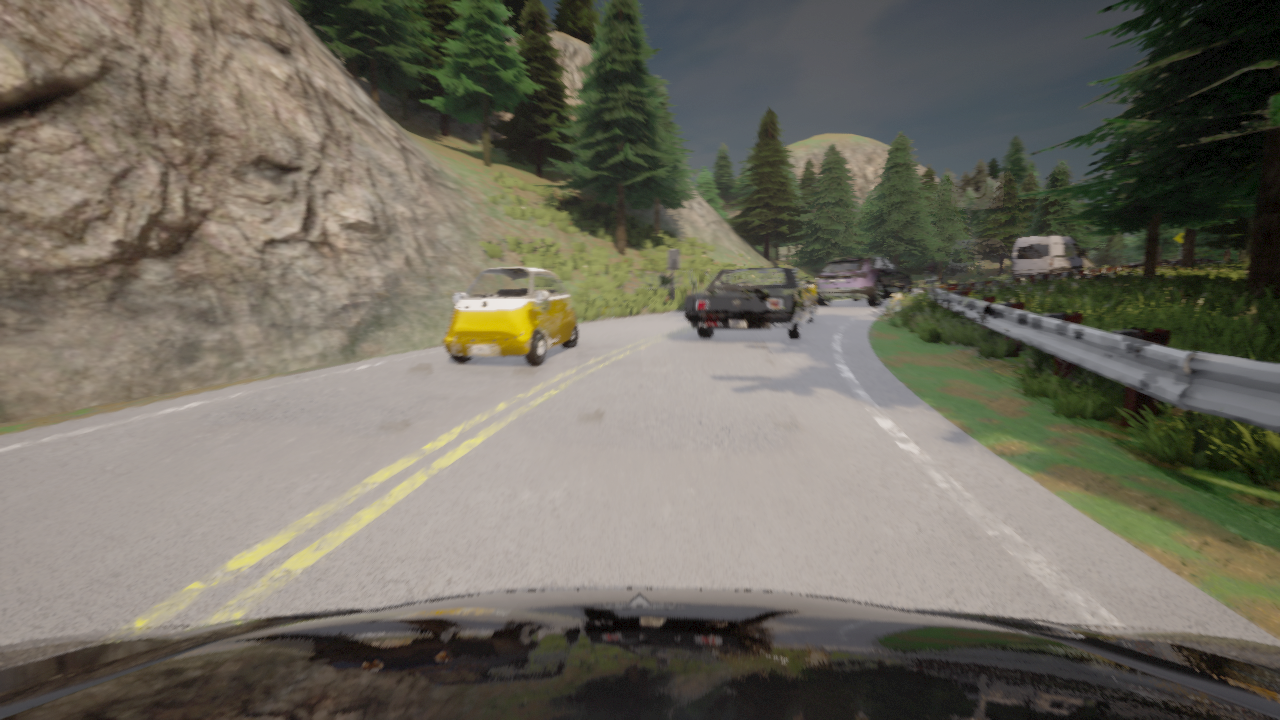cyclist: (0, 588, 1279, 719), (443, 266, 577, 365), (685, 266, 816, 339), (816, 255, 912, 306), (1012, 235, 1083, 276), (923, 271, 937, 285)
